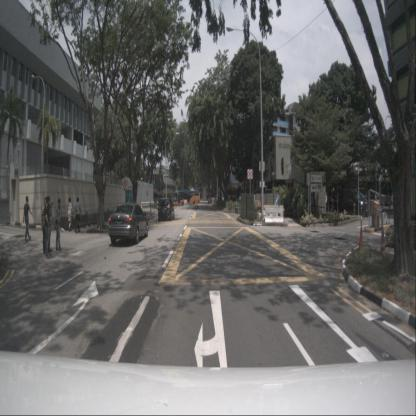human-pedestrian-adult: (22, 195, 34, 242), (44, 196, 51, 259), (46, 197, 54, 252), (54, 198, 62, 252), (42, 197, 48, 254), (74, 197, 82, 233), (66, 197, 74, 231)
movable_object-barrier: (264, 205, 284, 222)
movable_object-trafficcone: (356, 220, 364, 251), (379, 223, 387, 254)
vehicle-bus-rigid: (172, 190, 200, 206)
vehicle-car: (108, 203, 148, 245), (337, 188, 368, 216), (158, 198, 174, 222)
